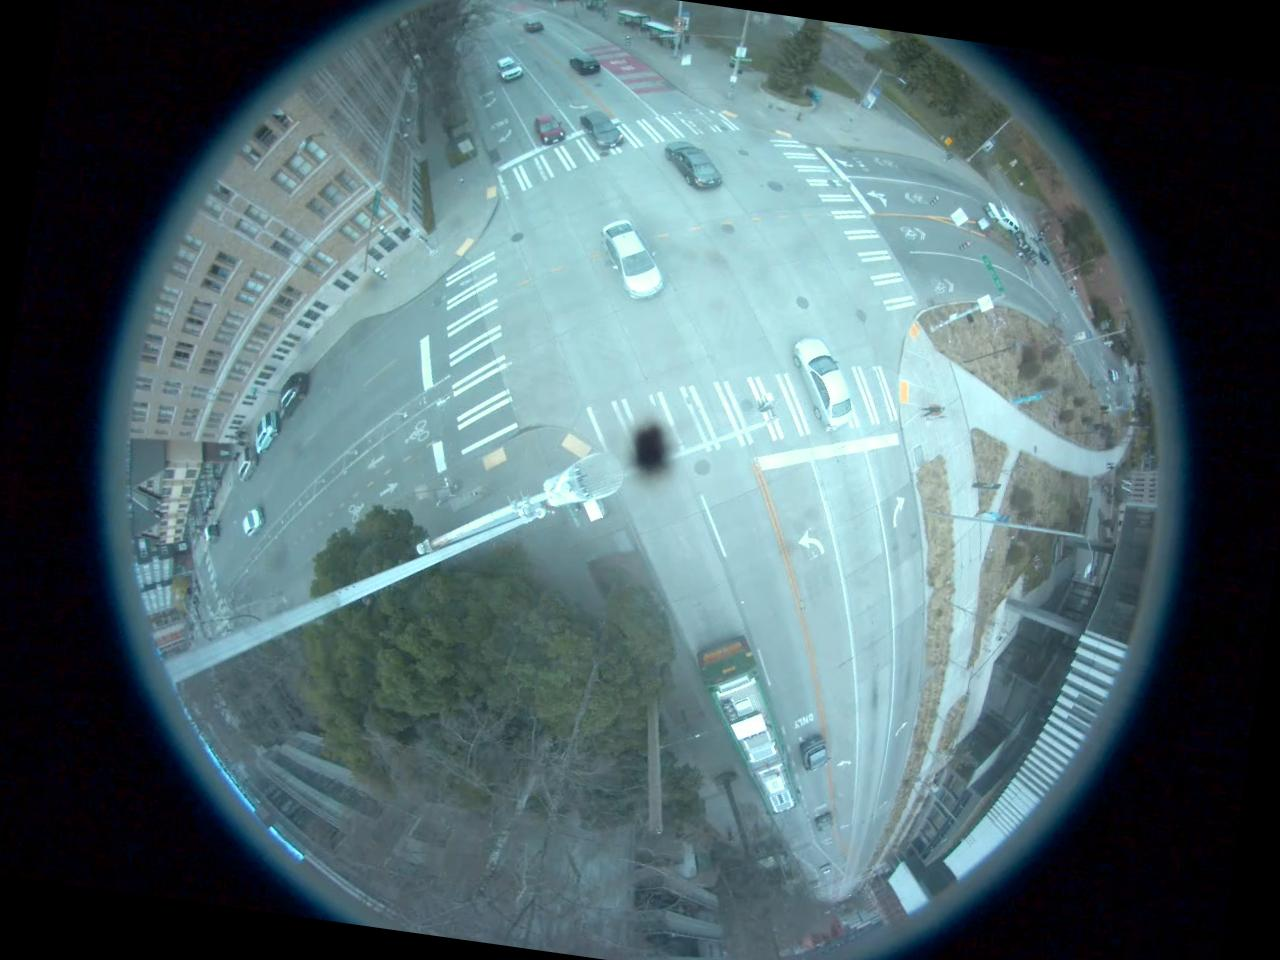bus: (676, 634, 816, 820)
car: (782, 337, 866, 439), (596, 219, 676, 299), (659, 136, 732, 197), (575, 107, 629, 150), (972, 194, 1024, 236), (275, 368, 312, 421), (532, 109, 568, 152), (797, 734, 832, 776), (254, 413, 282, 458), (569, 51, 606, 82), (232, 452, 263, 488), (238, 502, 268, 536), (494, 54, 527, 84), (518, 16, 544, 34)
person: (919, 400, 948, 422)
